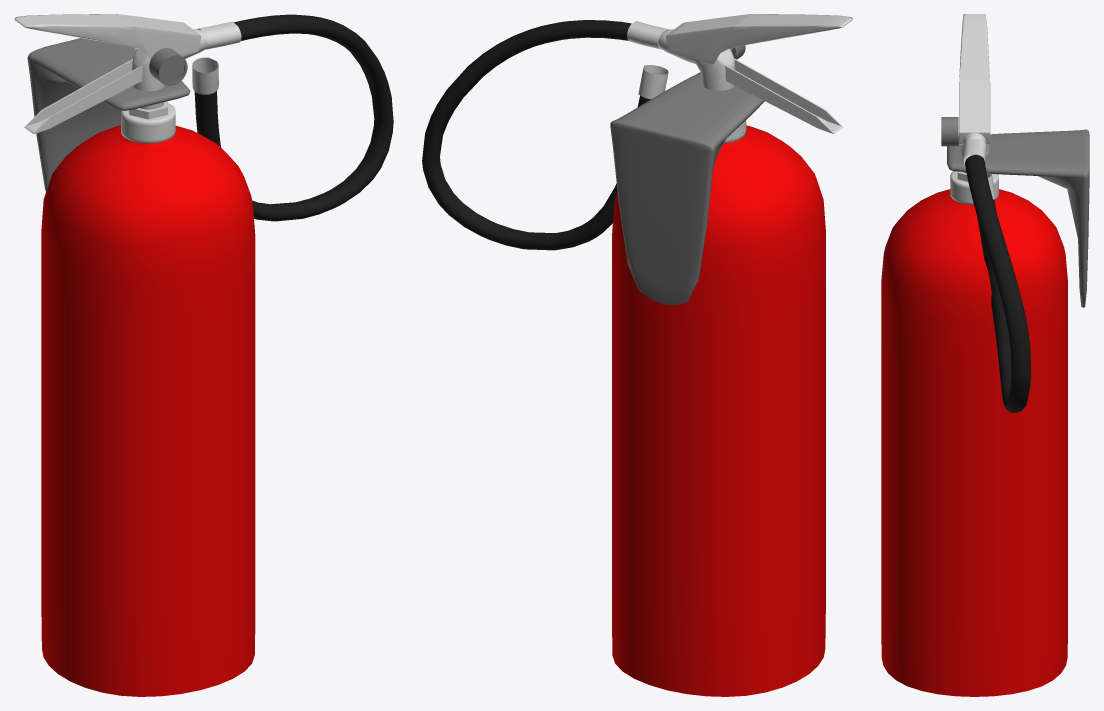
The model's file is FE(need fix).fbx.
3 views of the same model, side by side, from view 1: azimuth 30°, elevation 25°; view 2: azimuth 150°, elevation 25°; view 3: azimuth 270°, elevation 25° (orthographic). The views are drawn at different scales.
Visible parts, largest first — view 1: pCube10, pCube9, polySurface177, pCube11, pCube12, pCylinder109, pCylinder108, polySurface174, polySurface178, polySurface176; view 2: pCube10, pCube9, polySurface177, pCube11, pCube12, polySurface174, polySurface178, polySurface176; view 3: pCube10, polySurface177, pCube9, pCube11, pCylinder109, pCylinder108, polySurface176.
Part boxes in pixels (x1,y1,x2,y2): pCube10: [41, 125, 255, 696]; pCube9: [27, 38, 190, 191]; polySurface177: [194, 14, 393, 221]; pCube11: [14, 14, 201, 59]; pCube12: [24, 59, 142, 134]; pCylinder109: [121, 103, 175, 143]; pCylinder108: [149, 48, 187, 85]; polySurface174: [132, 29, 207, 109]; polySurface178: [192, 57, 218, 94]; polySurface176: [197, 21, 241, 49]; pCube10: [612, 125, 825, 696]; pCube9: [610, 72, 764, 305]; polySurface177: [422, 20, 650, 250]; pCube11: [666, 14, 852, 64]; pCube12: [725, 58, 843, 133]; polySurface174: [658, 29, 735, 90]; polySurface178: [638, 65, 668, 99]; polySurface176: [627, 21, 668, 49]; pCube10: [881, 189, 1067, 696]; polySurface177: [965, 155, 1031, 412]; pCube9: [947, 129, 1089, 307]; pCube11: [959, 14, 990, 144]; pCylinder109: [950, 171, 998, 204]; pCylinder108: [941, 117, 958, 146]; polySurface176: [962, 139, 986, 167].
Bounding box in the file's own units: 94.54 × 150 × 48.22.
